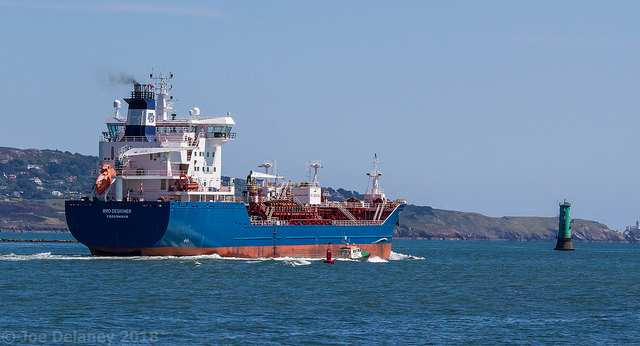boat: (335, 236, 373, 259)
tanker: (67, 63, 406, 260)
